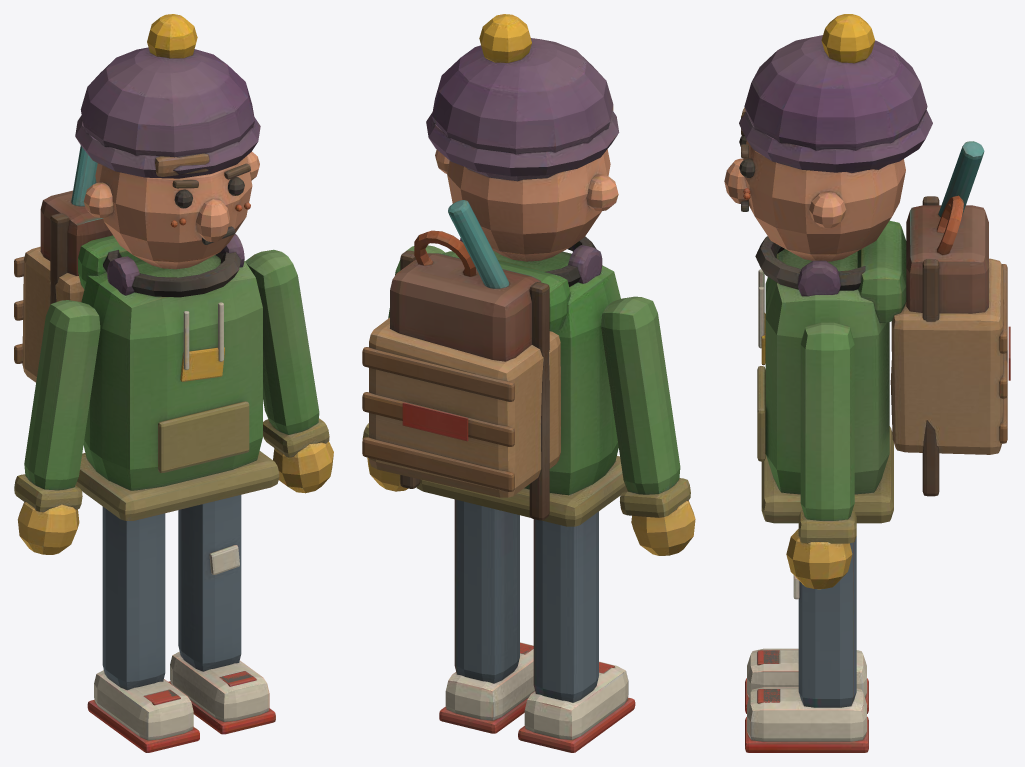
The model's file is juri_model.glb.
3 views of the same model, side by side, from view 1: azimuth 30°, elevation 25°; view 2: azimuth 150°, elevation 25°; view 3: azimuth 270°, elevation 25° (orthographic). The views are drawn at different scales.
Visible parts, largest first — view 1: Torso_Mesh, Head_Mesh, LegL_Mesh, LegR_Mesh, ArmL_Mesh, ArmR_Mesh, Basket_Mesh, BasketFill_Mesh; view 2: Head_Mesh, Basket_Mesh, LegL_Mesh, Torso_Mesh, LegR_Mesh, ArmL_Mesh, BasketFill_Mesh, ArmR_Mesh; view 3: Head_Mesh, Torso_Mesh, Basket_Mesh, ArmR_Mesh, LegR_Mesh, BasketFill_Mesh, LegL_Mesh.
Part boxes in pixels (x1,y1,x2,y2): Torso_Mesh: [75, 235, 279, 520]; Head_Mesh: [75, 14, 260, 297]; LegL_Mesh: [87, 506, 199, 752]; LegR_Mesh: [168, 495, 275, 734]; ArmL_Mesh: [14, 300, 100, 554]; ArmR_Mesh: [245, 249, 333, 493]; Basket_Mesh: [14, 213, 84, 382]; BasketFill_Mesh: [40, 145, 112, 275]; Head_Mesh: [426, 14, 619, 286]; Basket_Mesh: [362, 250, 560, 520]; LegL_Mesh: [518, 511, 635, 752]; Torso_Mesh: [416, 251, 626, 526]; LegR_Mesh: [439, 499, 534, 733]; ArmL_Mesh: [601, 296, 695, 555]; BasketFill_Mesh: [390, 200, 540, 361]; ArmR_Mesh: [362, 245, 444, 491]; Head_Mesh: [724, 14, 932, 296]; Torso_Mesh: [757, 220, 906, 523]; Basket_Mesh: [890, 196, 1010, 496]; ArmR_Mesh: [786, 322, 856, 589]; LegR_Mesh: [745, 536, 868, 752]; BasketFill_Mesh: [906, 141, 988, 313]; LegL_Mesh: [745, 648, 868, 713].
Bounding box in the file's own units: 0.8886 × 1.89 × 0.6925.
8 materials, 8 textured.
